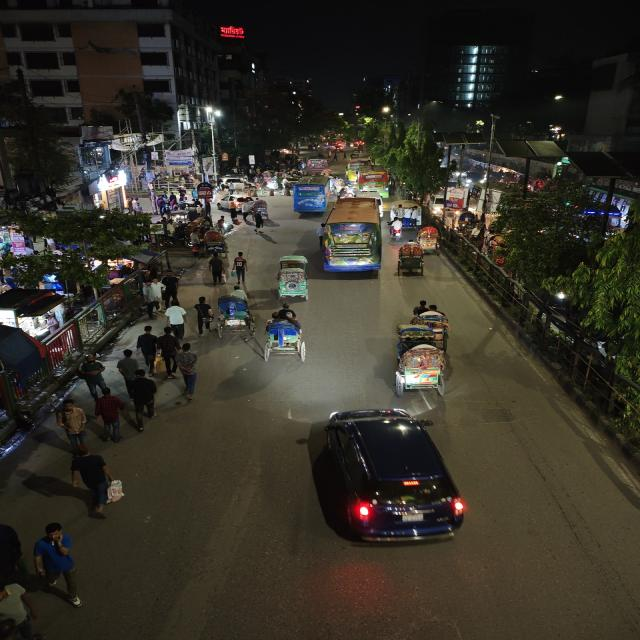bus: (316, 196, 384, 281), (290, 175, 335, 215), (347, 160, 394, 194), (345, 157, 372, 181), (306, 157, 329, 173)
car: (299, 404, 481, 553)
human_hauler: (392, 200, 425, 228)
motorcycle: (387, 216, 405, 242), (336, 186, 353, 200)
pedestrian: (32, 519, 88, 607), (67, 451, 128, 519), (168, 344, 206, 398), (0, 516, 27, 590), (56, 401, 91, 453), (125, 368, 160, 419), (74, 353, 110, 400), (94, 391, 127, 442), (150, 324, 179, 370), (135, 323, 162, 372), (192, 295, 216, 337), (164, 298, 188, 338), (116, 346, 140, 385), (159, 271, 185, 305), (204, 252, 229, 286), (229, 251, 252, 285), (141, 286, 162, 320), (187, 230, 204, 258), (250, 210, 268, 236), (219, 217, 234, 237)
rickshaw: (384, 327, 460, 399), (258, 305, 320, 364), (272, 254, 313, 302), (413, 300, 454, 342), (216, 292, 256, 335), (394, 240, 427, 279), (415, 225, 443, 255), (202, 230, 229, 254)
